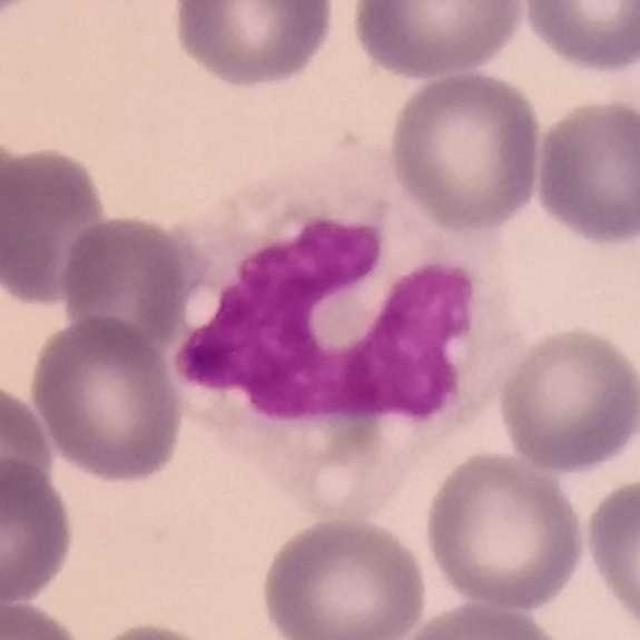mono: (167, 132, 518, 521)
